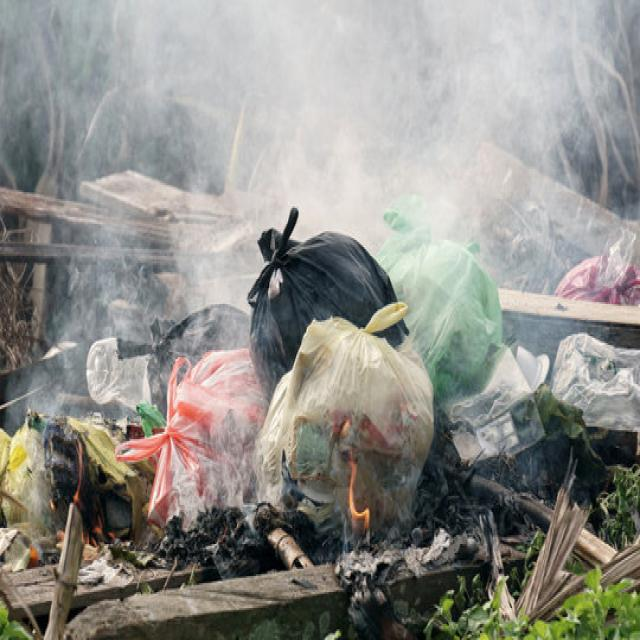fire: (348, 457, 369, 529)
